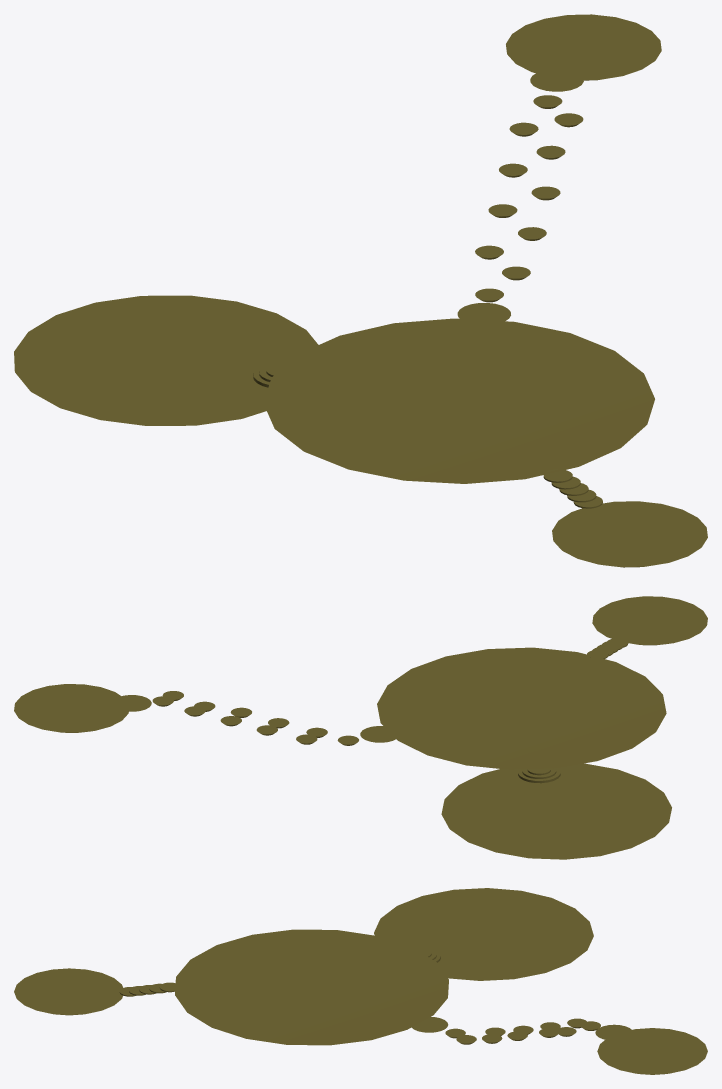
The model's file is BattleMapV3.fbx.
The picture shows the model from 3 angles, top to bottom: view 1: azimuth 30°, elevation 25°; view 2: azimuth 150°, elevation 25°; view 3: azimuth 270°, elevation 25°; orthographic projection. The views are drawn at different scales.
Parts seen in each view (by area): view 1: pCylinder1, pCylinder3, pCylinder2, pCylinder4, pCylinder19; view 2: pCylinder1, pCylinder3, pCylinder2, pCylinder4, pCylinder19, pCylinder14; view 3: pCylinder1, pCylinder3, pCylinder2, pCylinder4, pCylinder19, pCylinder14.
Boxes of the visible parts, <box> form: pCylinder1: <box>263,318,654,483</box>; pCylinder3: <box>14,295,318,425</box>; pCylinder2: <box>552,501,707,567</box>; pCylinder4: <box>506,14,661,80</box>; pCylinder19: <box>530,69,583,91</box>; pCylinder1: <box>377,647,666,769</box>; pCylinder3: <box>441,763,671,859</box>; pCylinder2: <box>592,596,707,645</box>; pCylinder4: <box>14,684,128,732</box>; pCylinder19: <box>112,695,151,711</box>; pCylinder14: <box>360,726,395,742</box>; pCylinder1: <box>175,929,448,1045</box>; pCylinder3: <box>374,888,593,980</box>; pCylinder2: <box>14,968,123,1015</box>; pCylinder4: <box>597,1028,707,1074</box>; pCylinder19: <box>595,1024,633,1040</box>; pCylinder14: <box>412,1017,448,1032</box>.
Size of the model in its own units: 208 by 28.7 by 240.
